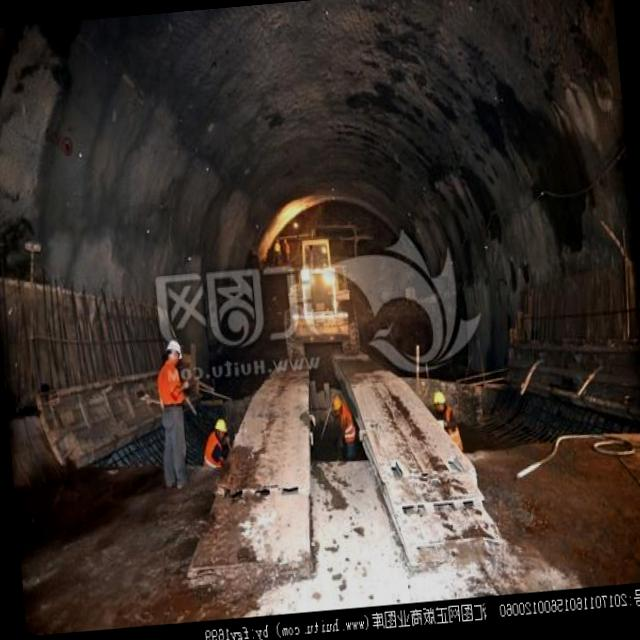helmet: (431, 389, 451, 421), (162, 338, 184, 359), (212, 417, 226, 437), (330, 398, 344, 414)
vest: (152, 360, 190, 412), (202, 436, 226, 473), (338, 412, 354, 442)
